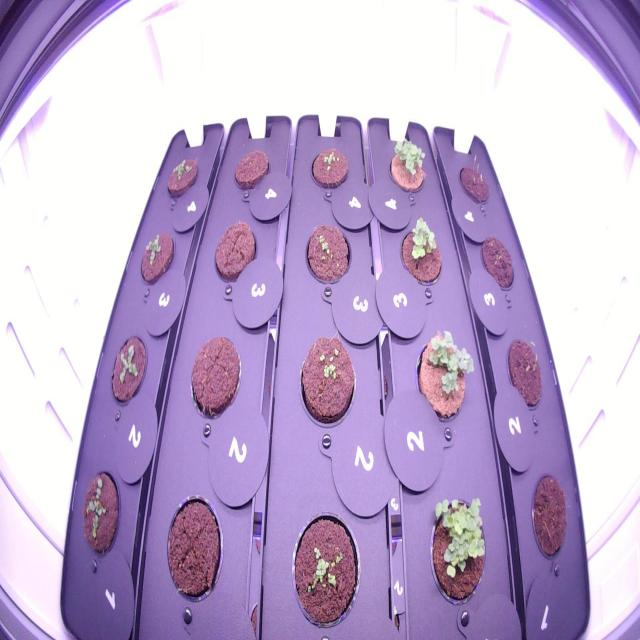germination: (287, 501, 364, 636), (424, 484, 491, 611), (408, 318, 478, 429), (294, 322, 361, 435), (394, 208, 448, 294), (78, 464, 123, 564), (299, 218, 354, 288), (106, 328, 151, 411), (384, 131, 429, 199), (451, 148, 496, 215), (134, 226, 179, 289), (306, 140, 351, 197), (162, 149, 201, 205)
pod: (159, 487, 227, 612), (185, 328, 246, 426), (525, 464, 570, 570), (504, 325, 546, 423), (210, 213, 260, 289), (476, 228, 522, 300), (228, 142, 274, 197)
